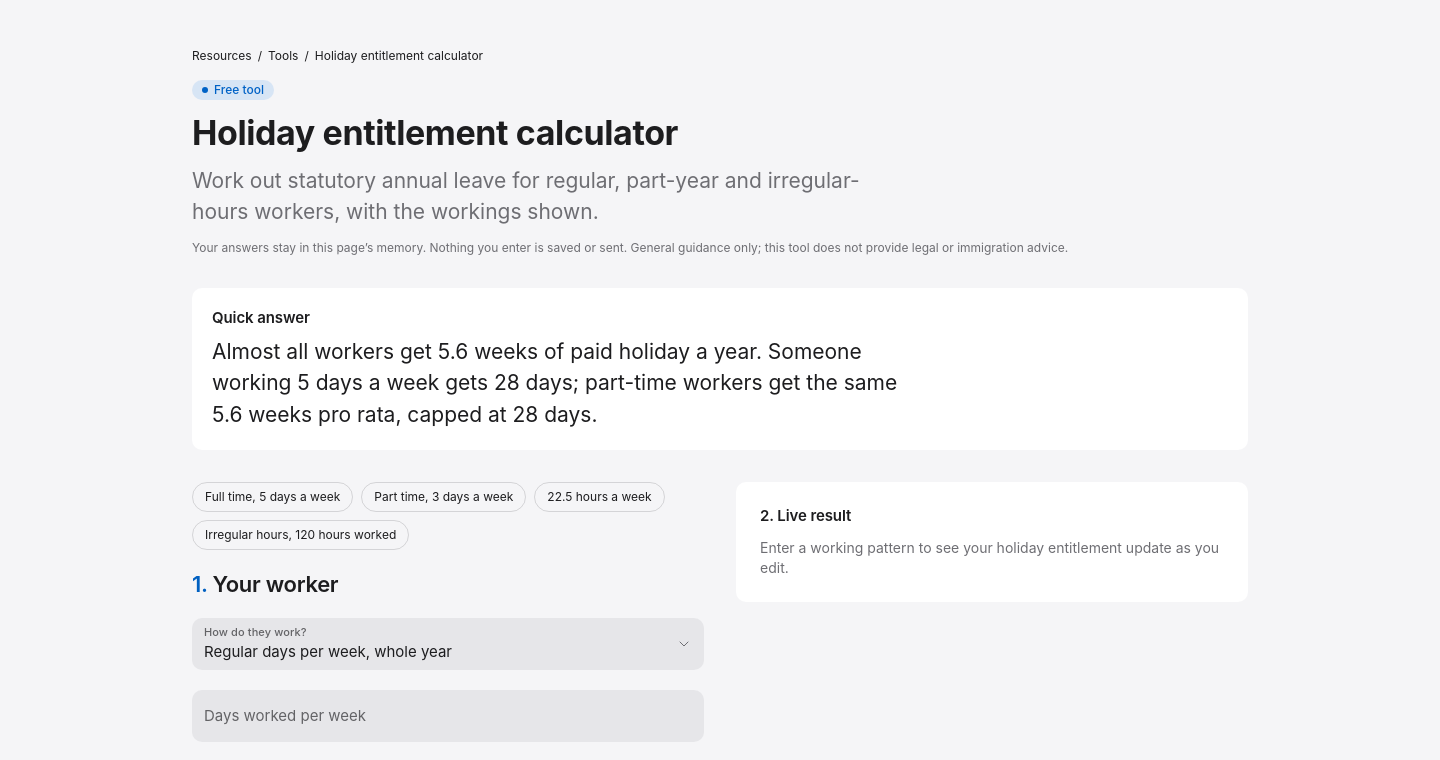
Test: public holiday entitlement calculator › calculates locally, rejects bad input and resets
The image size is (1440, 760).
Type "3" into the number field labelled "Days worked per week" at [448, 716], box [204,690,692,742]
(page scrolled)
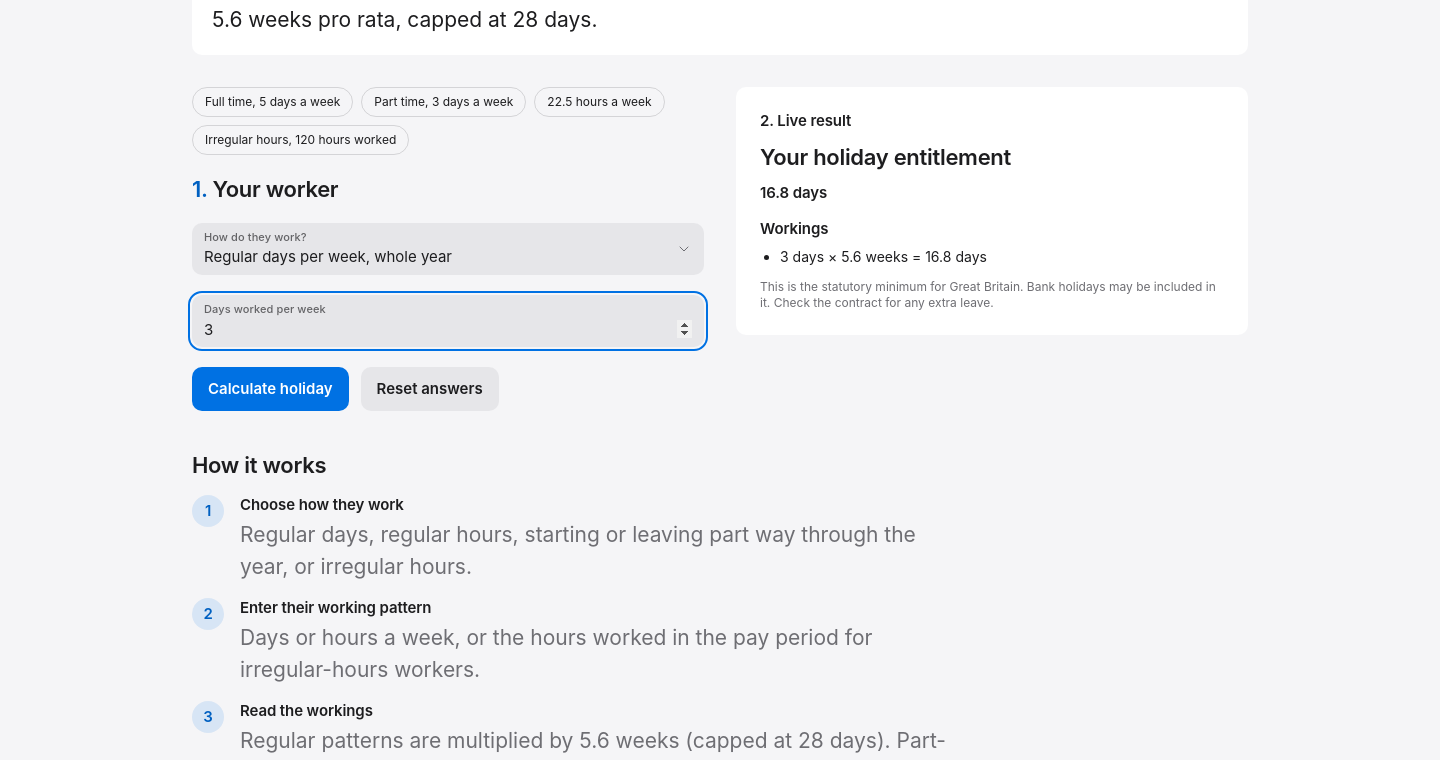
Click the button "Calculate holiday" at [270, 389], box [192,367,349,411]
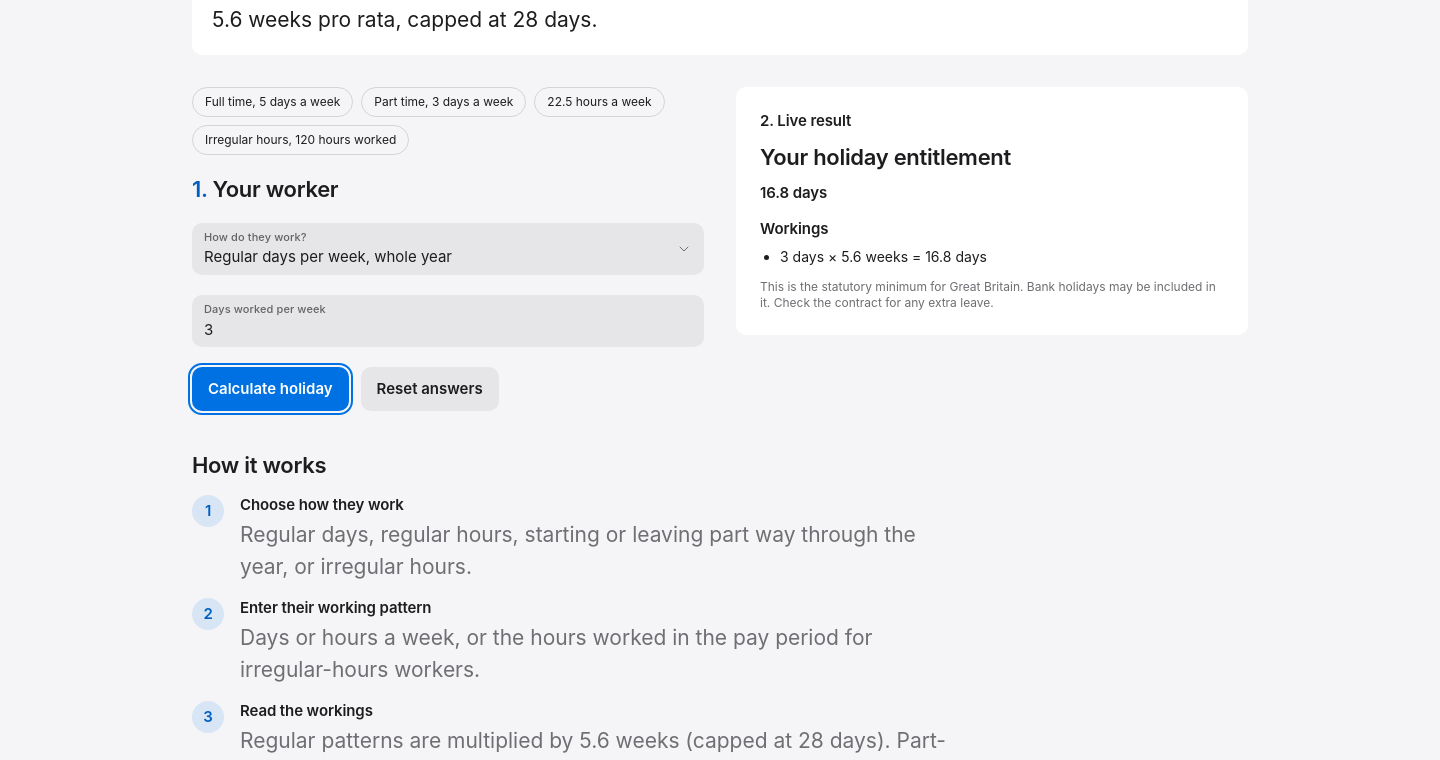
Expected: the element named "Holiday result" shows "16.8 days", [780,248,987,265]
Click the button "Reset answers" at [430, 389], box [361,367,499,411]
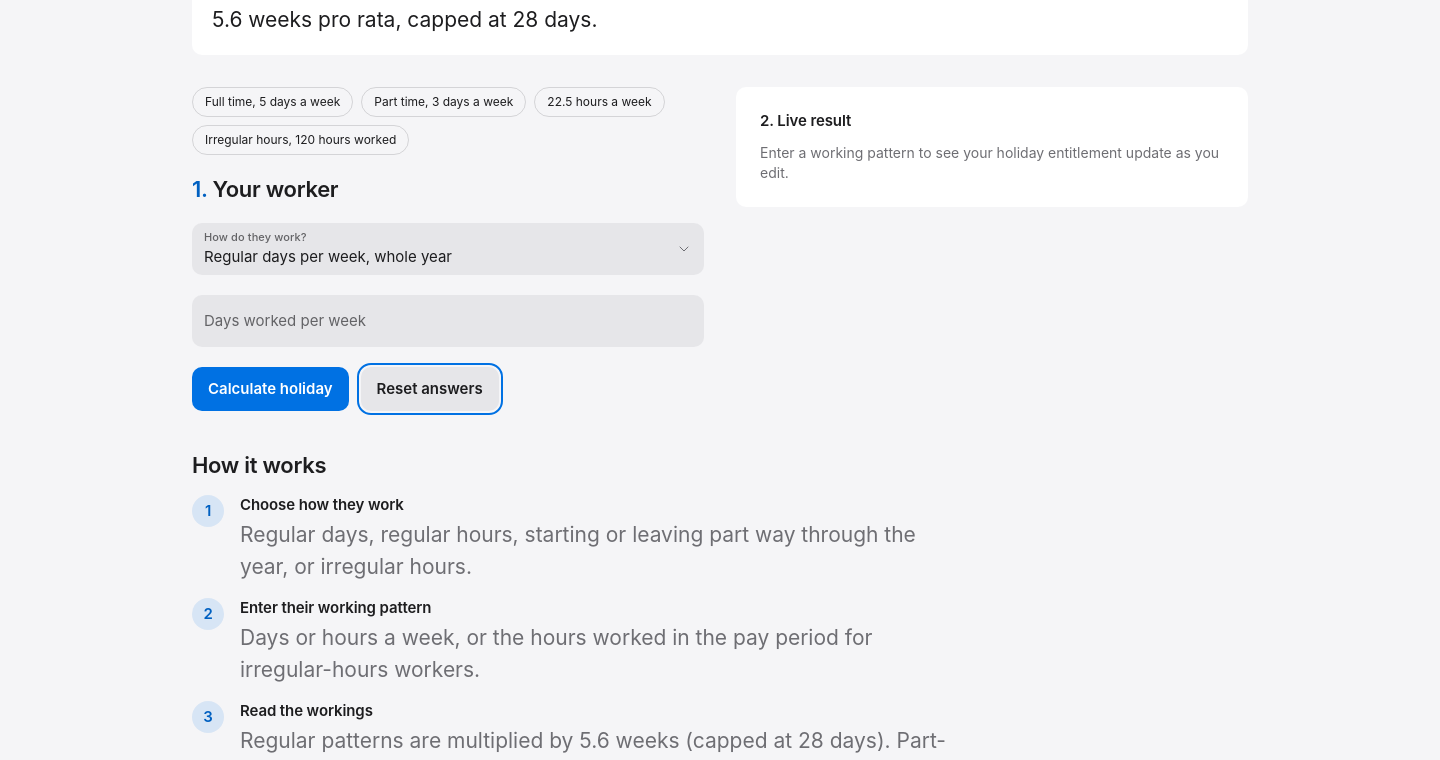
Click the button "Calculate holiday" at [270, 389], box [192,367,349,411]
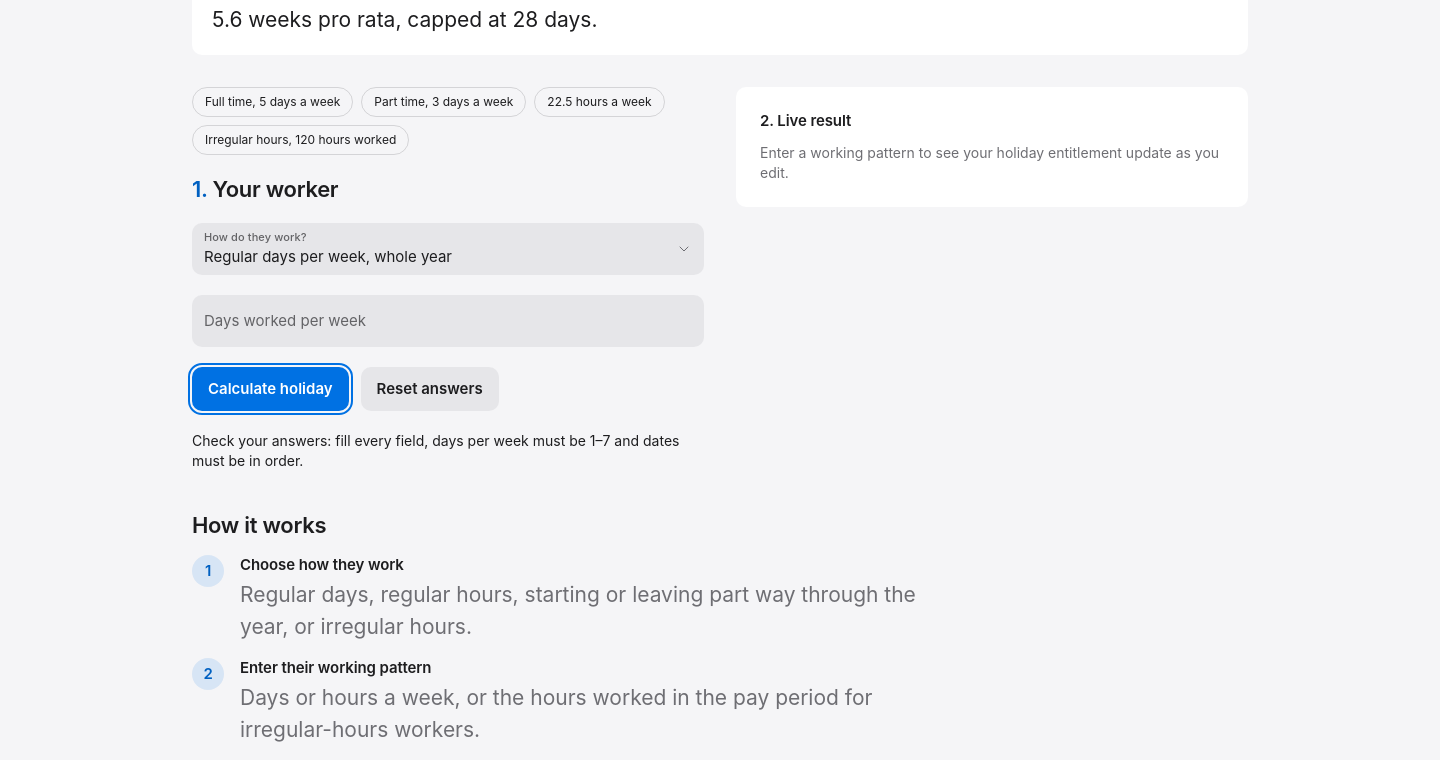
Expected: the message is shown, [192,431,704,471]
